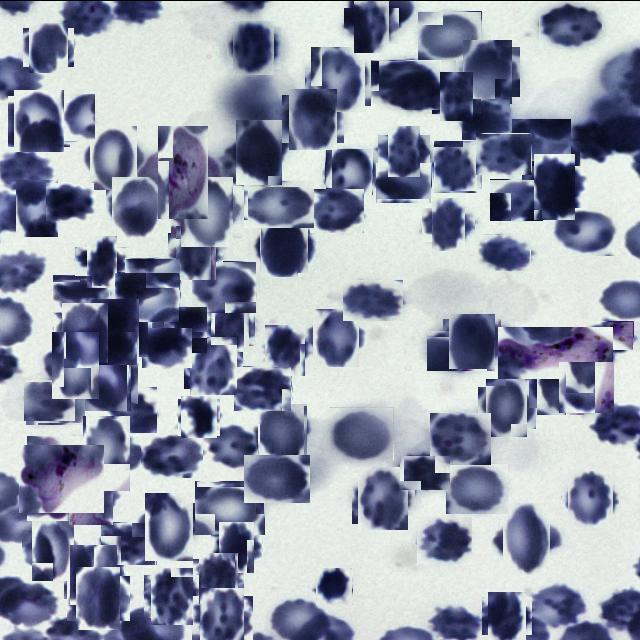red blood cell: (175, 180, 238, 242), (76, 422, 138, 484), (195, 480, 265, 534), (497, 508, 557, 568), (308, 48, 368, 108), (371, 59, 441, 109), (330, 406, 394, 460), (140, 497, 198, 556), (244, 179, 315, 227), (192, 260, 257, 312), (76, 348, 134, 406), (86, 302, 144, 360), (46, 336, 104, 394), (459, 42, 516, 100), (428, 412, 491, 464), (115, 271, 180, 321), (355, 469, 412, 526), (10, 92, 68, 148), (552, 206, 618, 255), (244, 454, 310, 502), (86, 128, 142, 184), (109, 178, 165, 234), (418, 10, 482, 59), (231, 123, 287, 179), (446, 463, 508, 513), (256, 218, 312, 273), (539, 0, 602, 48), (286, 91, 340, 146), (533, 356, 587, 411), (559, 359, 613, 414), (37, 92, 96, 142), (256, 405, 310, 459), (67, 547, 121, 601), (72, 570, 126, 624), (528, 159, 582, 213), (57, 304, 111, 358), (526, 582, 586, 630), (141, 431, 203, 477), (309, 311, 362, 364), (187, 338, 240, 391), (149, 305, 208, 352), (26, 378, 86, 424), (65, 469, 117, 522), (26, 524, 78, 576), (446, 315, 498, 367), (565, 472, 616, 524), (417, 516, 472, 564), (234, 365, 292, 410), (196, 591, 249, 640), (343, 278, 404, 320), (125, 257, 181, 302), (482, 382, 532, 432), (12, 182, 62, 232), (148, 570, 198, 620), (206, 423, 259, 470), (512, 118, 571, 160), (100, 521, 156, 564), (528, 140, 580, 186), (105, 386, 157, 432), (310, 188, 364, 232), (476, 132, 532, 174), (427, 329, 484, 370), (230, 23, 278, 71), (432, 142, 480, 190), (172, 228, 220, 276), (376, 161, 432, 202), (490, 178, 544, 220), (53, 274, 110, 312), (326, 148, 372, 195), (196, 555, 242, 601), (262, 327, 308, 372), (349, 2, 394, 48), (26, 24, 71, 69), (142, 327, 192, 367), (24, 381, 75, 420), (426, 202, 471, 246), (462, 98, 510, 139), (478, 233, 531, 270), (208, 304, 252, 348), (214, 525, 258, 569), (485, 593, 529, 637), (428, 605, 482, 640), (46, 182, 94, 220), (400, 454, 451, 489), (80, 240, 122, 282), (383, 129, 425, 171), (436, 75, 477, 117), (586, 320, 634, 354), (179, 397, 219, 436), (316, 568, 353, 604)
schizont: (498, 326, 613, 378)
trophozoite: (23, 439, 100, 516), (147, 135, 219, 207)
